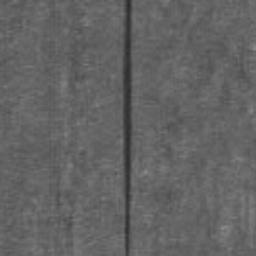Scratches: (123, 0, 132, 256)
